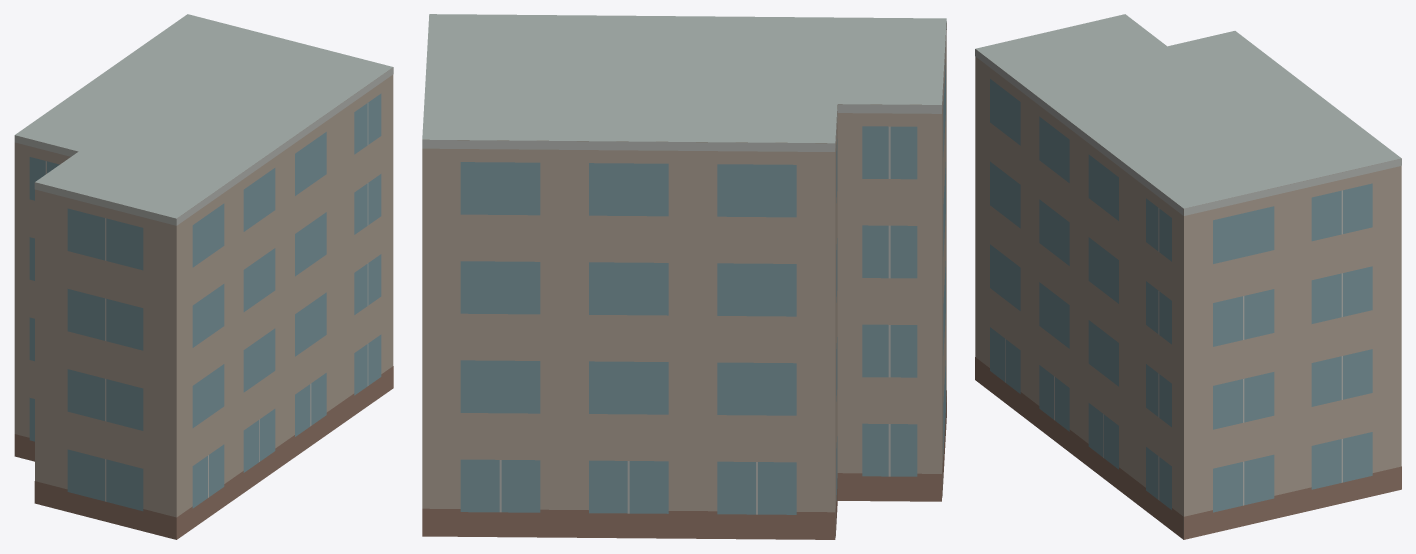
The model's file is survey-upis-32657940.glb.
3 renders of one model, left to right at view 1: azimuth 30°, elevation 25°; view 2: azimuth 150°, elevation 25°; view 3: azimuth 270°, elevation 25°, orthographic. The views are drawn at different scales.
Visible parts, largest first — view 1: survey-upis-32657940.tmp; view 2: survey-upis-32657940.tmp; view 3: survey-upis-32657940.tmp.
Boxes of the visible parts, x1,y1,x2,y2 form: survey-upis-32657940.tmp: (14,14,393,539); survey-upis-32657940.tmp: (422,14,946,539); survey-upis-32657940.tmp: (975,14,1401,539).
Bounding box in the file's own units: 13.62 × 10.8 × 12.62.
